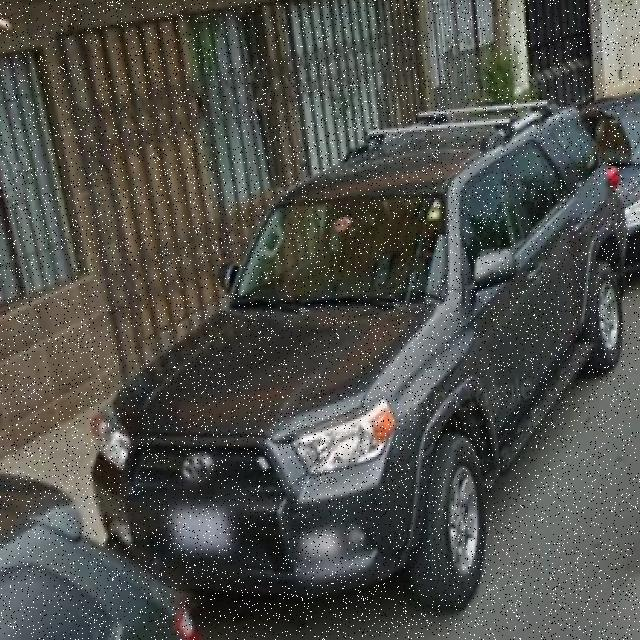cars: (96, 101, 629, 606)
